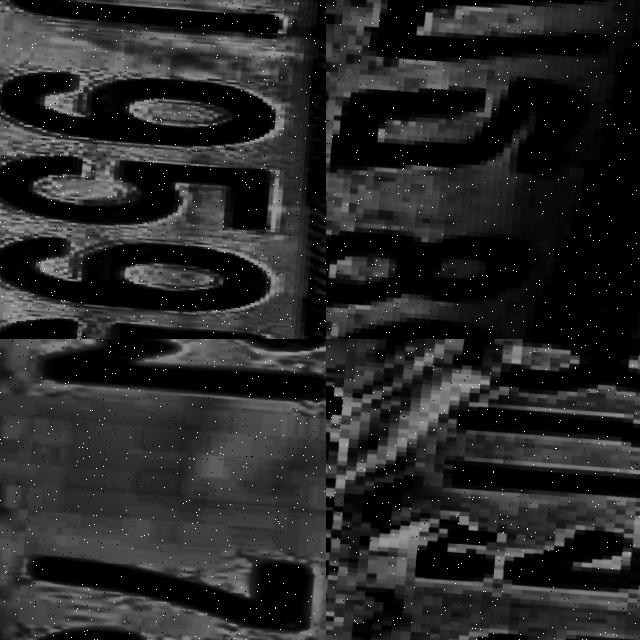license-plate: (0, 0, 326, 339), (326, 0, 640, 339), (0, 339, 326, 640), (326, 339, 640, 640)
